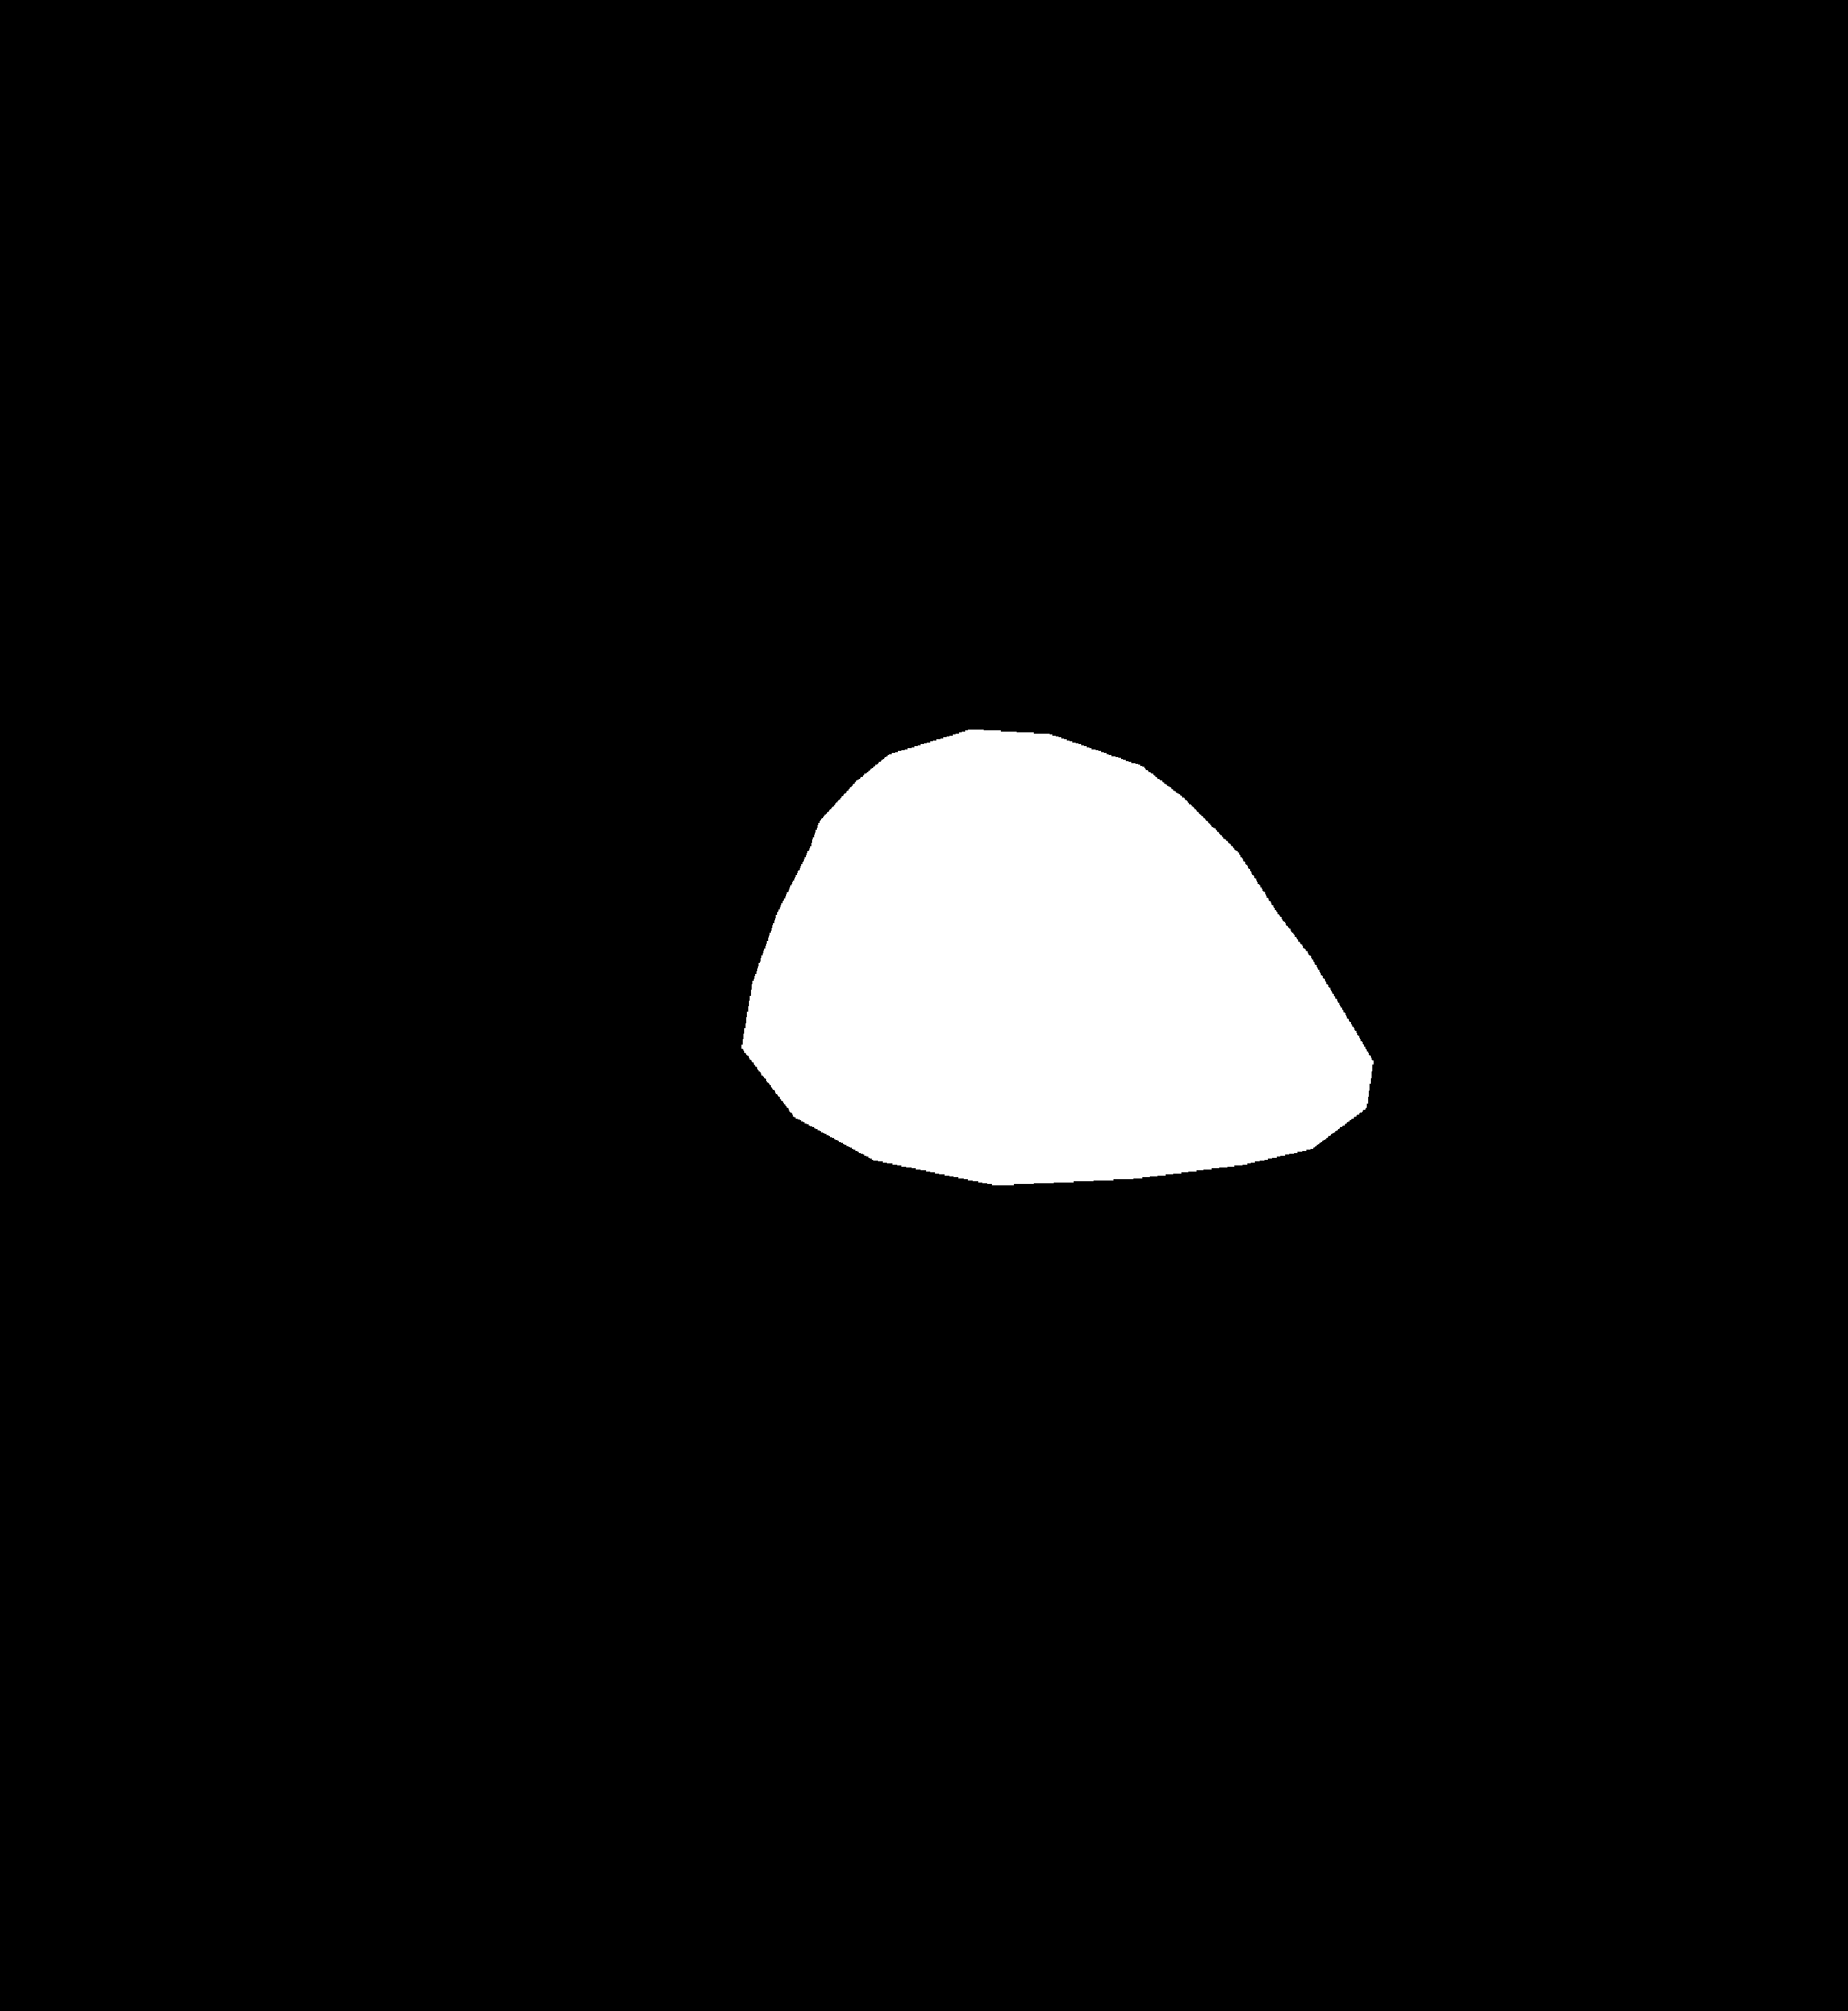heart: (744, 829, 1380, 1238)
left_lung: (257, 133, 892, 1189)
right_lung: (1084, 110, 1645, 1238)
